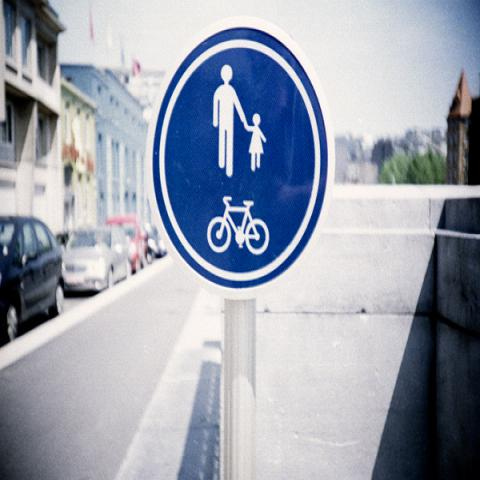car: (1, 213, 66, 346), (60, 220, 129, 290), (106, 213, 150, 276), (144, 225, 168, 264)
